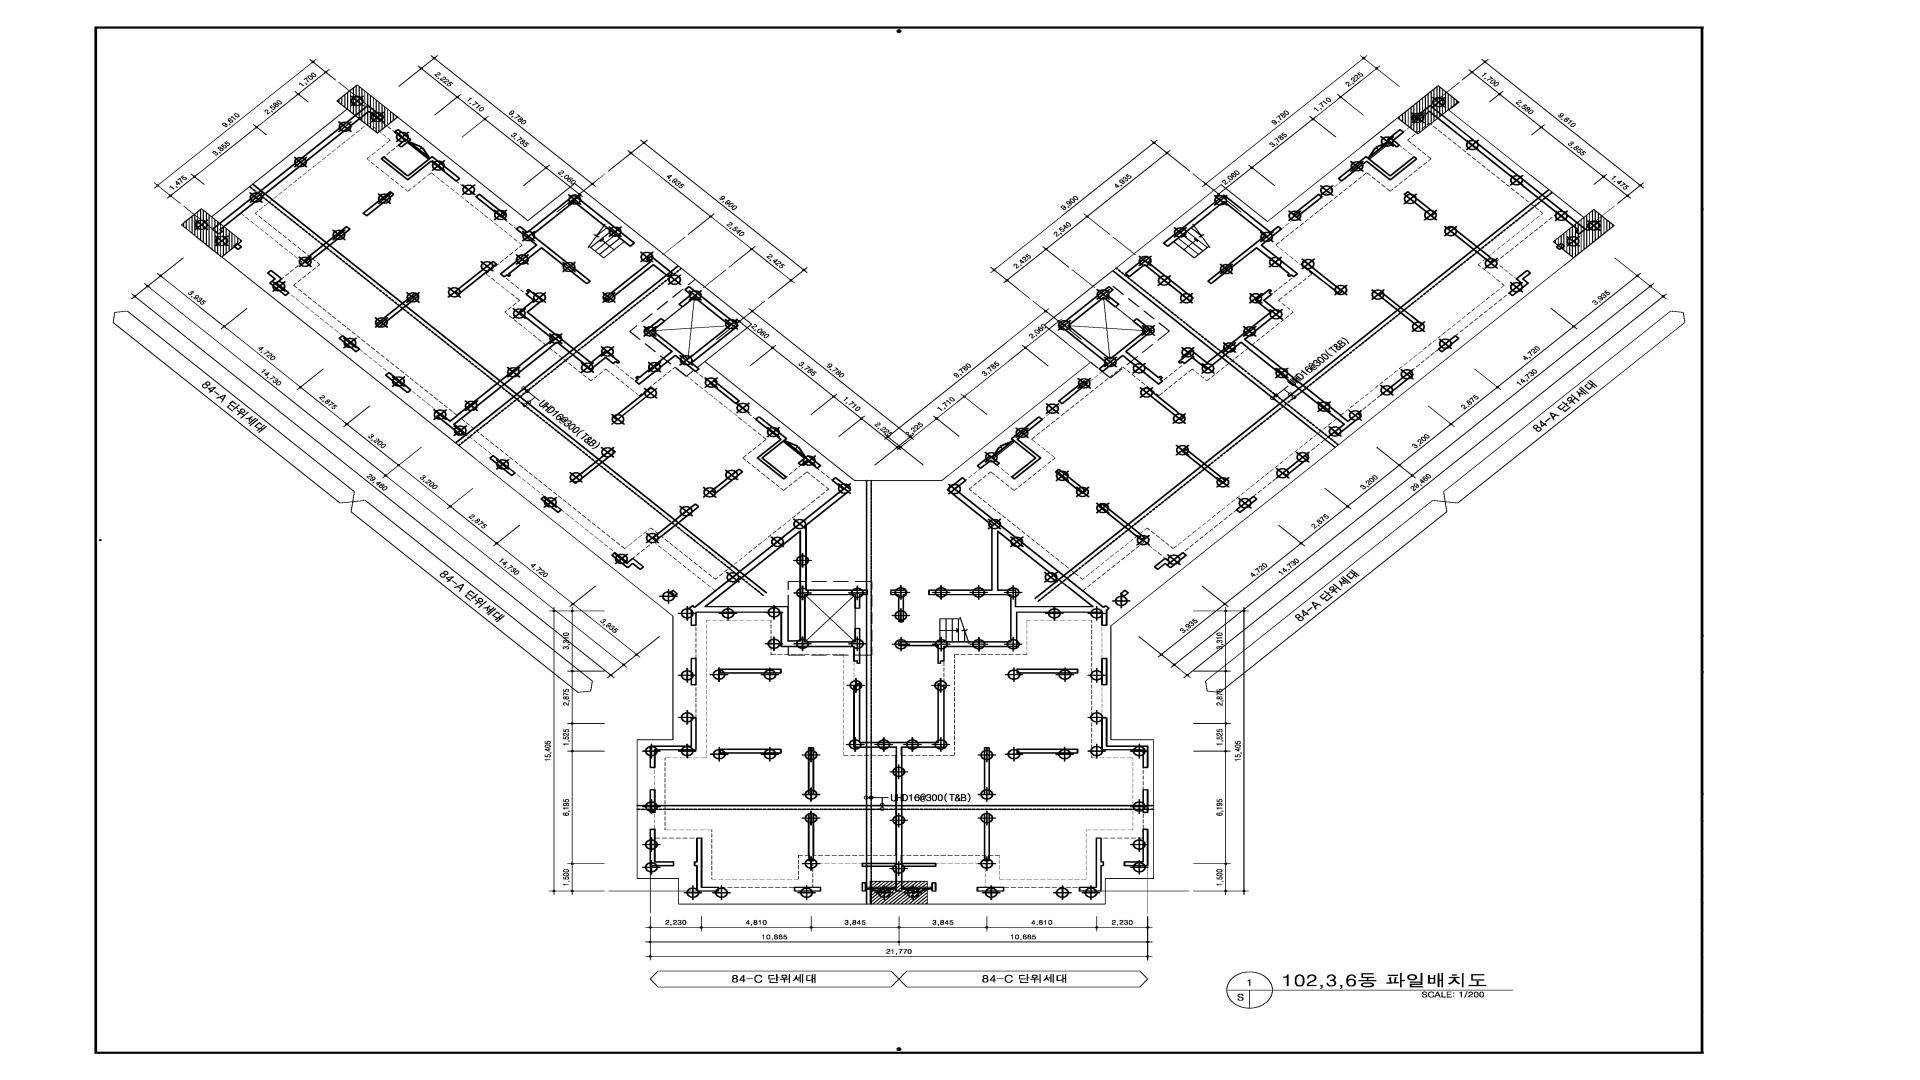door: (407, 138, 434, 160), (989, 438, 1014, 459), (783, 438, 808, 458), (1365, 140, 1390, 160)
wall: (687, 476, 853, 647), (436, 289, 621, 435), (1178, 289, 1362, 435), (945, 476, 1110, 626), (211, 104, 384, 235), (1414, 104, 1586, 235), (853, 683, 944, 891), (898, 527, 1017, 663), (500, 194, 636, 285), (1163, 194, 1299, 285), (455, 352, 572, 446), (1222, 355, 1340, 448), (634, 286, 740, 385), (1059, 286, 1163, 385), (1112, 268, 1221, 355), (799, 526, 866, 663), (402, 306, 500, 384), (1303, 310, 1400, 388), (574, 276, 670, 352), (517, 397, 599, 462), (1204, 404, 1283, 467), (599, 462, 675, 522), (1400, 249, 1477, 310), (327, 245, 402, 306), (1129, 467, 1204, 527), (675, 522, 740, 574), (1064, 527, 1129, 579), (1477, 198, 1542, 249), (604, 256, 675, 302), (262, 194, 326, 245), (1125, 258, 1195, 302), (1101, 717, 1149, 769), (650, 717, 696, 767), (754, 415, 787, 480), (1010, 415, 1043, 480), (380, 156, 460, 182), (1337, 156, 1418, 182), (1447, 225, 1495, 264), (1377, 291, 1425, 330), (303, 225, 351, 264), (1098, 502, 1146, 541), (654, 502, 700, 539), (375, 293, 419, 328), (571, 448, 616, 484), (1182, 448, 1226, 484), (1300, 260, 1344, 295), (454, 261, 497, 295), (1142, 386, 1185, 421), (613, 386, 655, 421), (866, 480, 872, 742), (694, 837, 719, 891), (1079, 837, 1104, 891), (902, 804, 1142, 810), (655, 804, 866, 810), (1124, 828, 1149, 866), (650, 828, 674, 866), (711, 468, 744, 495), (1055, 468, 1087, 495), (1403, 191, 1436, 216), (363, 191, 394, 216), (1058, 380, 1089, 405), (709, 380, 740, 405), (475, 194, 506, 218), (1292, 194, 1323, 218), (611, 551, 645, 571), (266, 269, 290, 297), (1034, 579, 1062, 601), (1509, 269, 1531, 297), (1386, 372, 1414, 394), (1282, 455, 1309, 477), (1154, 551, 1187, 570), (866, 748, 872, 862), (890, 589, 907, 622), (741, 575, 767, 596), (385, 372, 411, 393), (489, 455, 516, 476), (1437, 335, 1460, 353), (338, 335, 360, 352), (1236, 496, 1258, 513), (393, 128, 411, 148), (976, 455, 1001, 469), (541, 496, 562, 513), (798, 455, 822, 469), (719, 749, 782, 754), (719, 669, 782, 674), (1017, 749, 1079, 754), (1017, 669, 1079, 674), (984, 746, 990, 795), (1387, 129, 1404, 148), (984, 814, 990, 861), (1283, 389, 1303, 404), (808, 812, 814, 861), (808, 748, 814, 795), (501, 384, 517, 397), (866, 866, 872, 905), (1101, 658, 1108, 686), (1142, 789, 1149, 814), (794, 886, 822, 891), (977, 886, 1005, 891), (691, 658, 696, 686), (861, 862, 895, 866), (902, 862, 936, 866), (650, 789, 655, 814), (872, 804, 895, 810), (249, 183, 261, 193), (1542, 189, 1553, 198), (671, 265, 682, 274), (232, 243, 243, 251), (1555, 243, 1565, 251), (1120, 589, 1129, 597), (637, 804, 650, 810), (861, 882, 866, 891), (931, 882, 936, 891), (1149, 804, 1154, 810)
